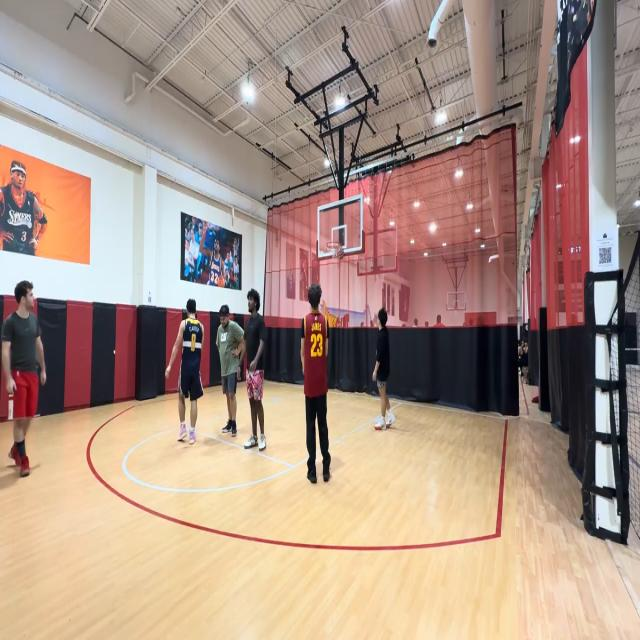Basketball: (336, 244, 344, 260)
Basketball Rim: (326, 240, 342, 264)
Player: (1, 279, 46, 480), (300, 283, 330, 483), (167, 298, 203, 445), (242, 288, 266, 454), (214, 303, 243, 437), (372, 308, 396, 430)
